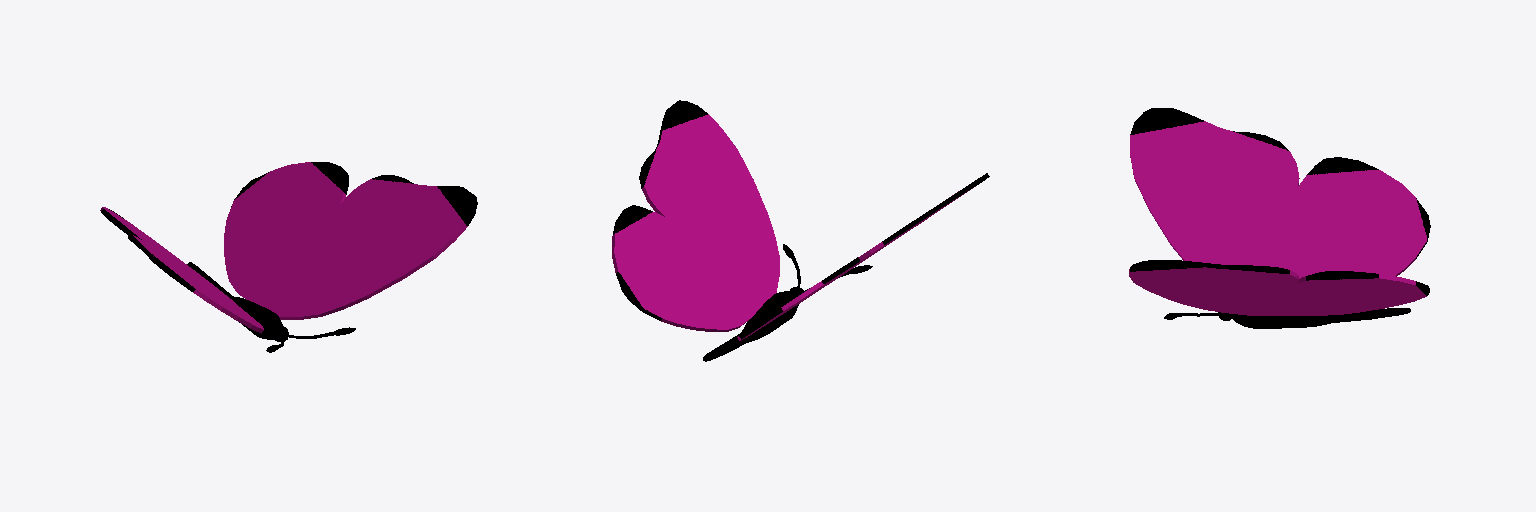
The picture shows the model from 3 angles: view 1: azimuth 30°, elevation 25°; view 2: azimuth 150°, elevation 25°; view 3: azimuth 270°, elevation 25°; orthographic projection.
Visible parts, largest first — view 1: Butterfly_pink; view 2: Butterfly_pink; view 3: Butterfly_pink.
Part boxes in pixels (x1,y1,x2,y2): Butterfly_pink: (100, 162, 477, 352); Butterfly_pink: (612, 100, 989, 361); Butterfly_pink: (1129, 108, 1430, 328).
Bounding box in the file's own units: 3.15 × 1.41 × 2.63.
1 materials, 1 textured.